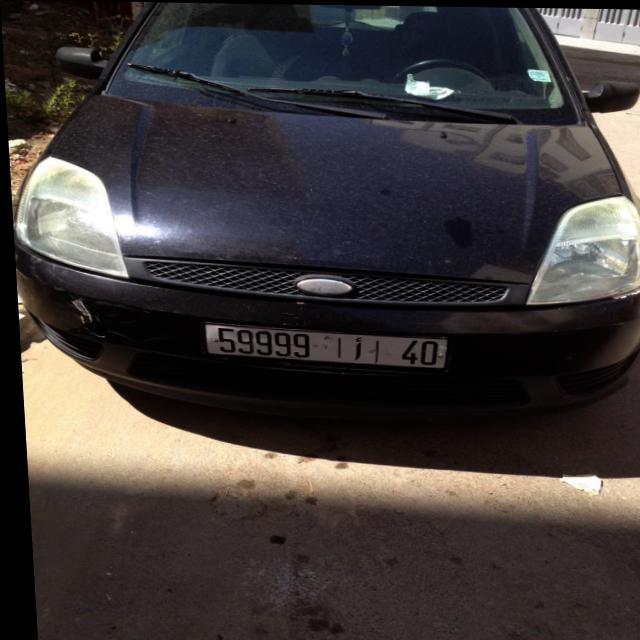License-Plate: (200, 322, 444, 367)
